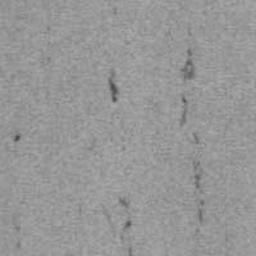Inclusion: (178, 47, 206, 220), (118, 195, 133, 232), (109, 68, 120, 104), (14, 225, 22, 252), (13, 133, 22, 143), (127, 247, 134, 256)
